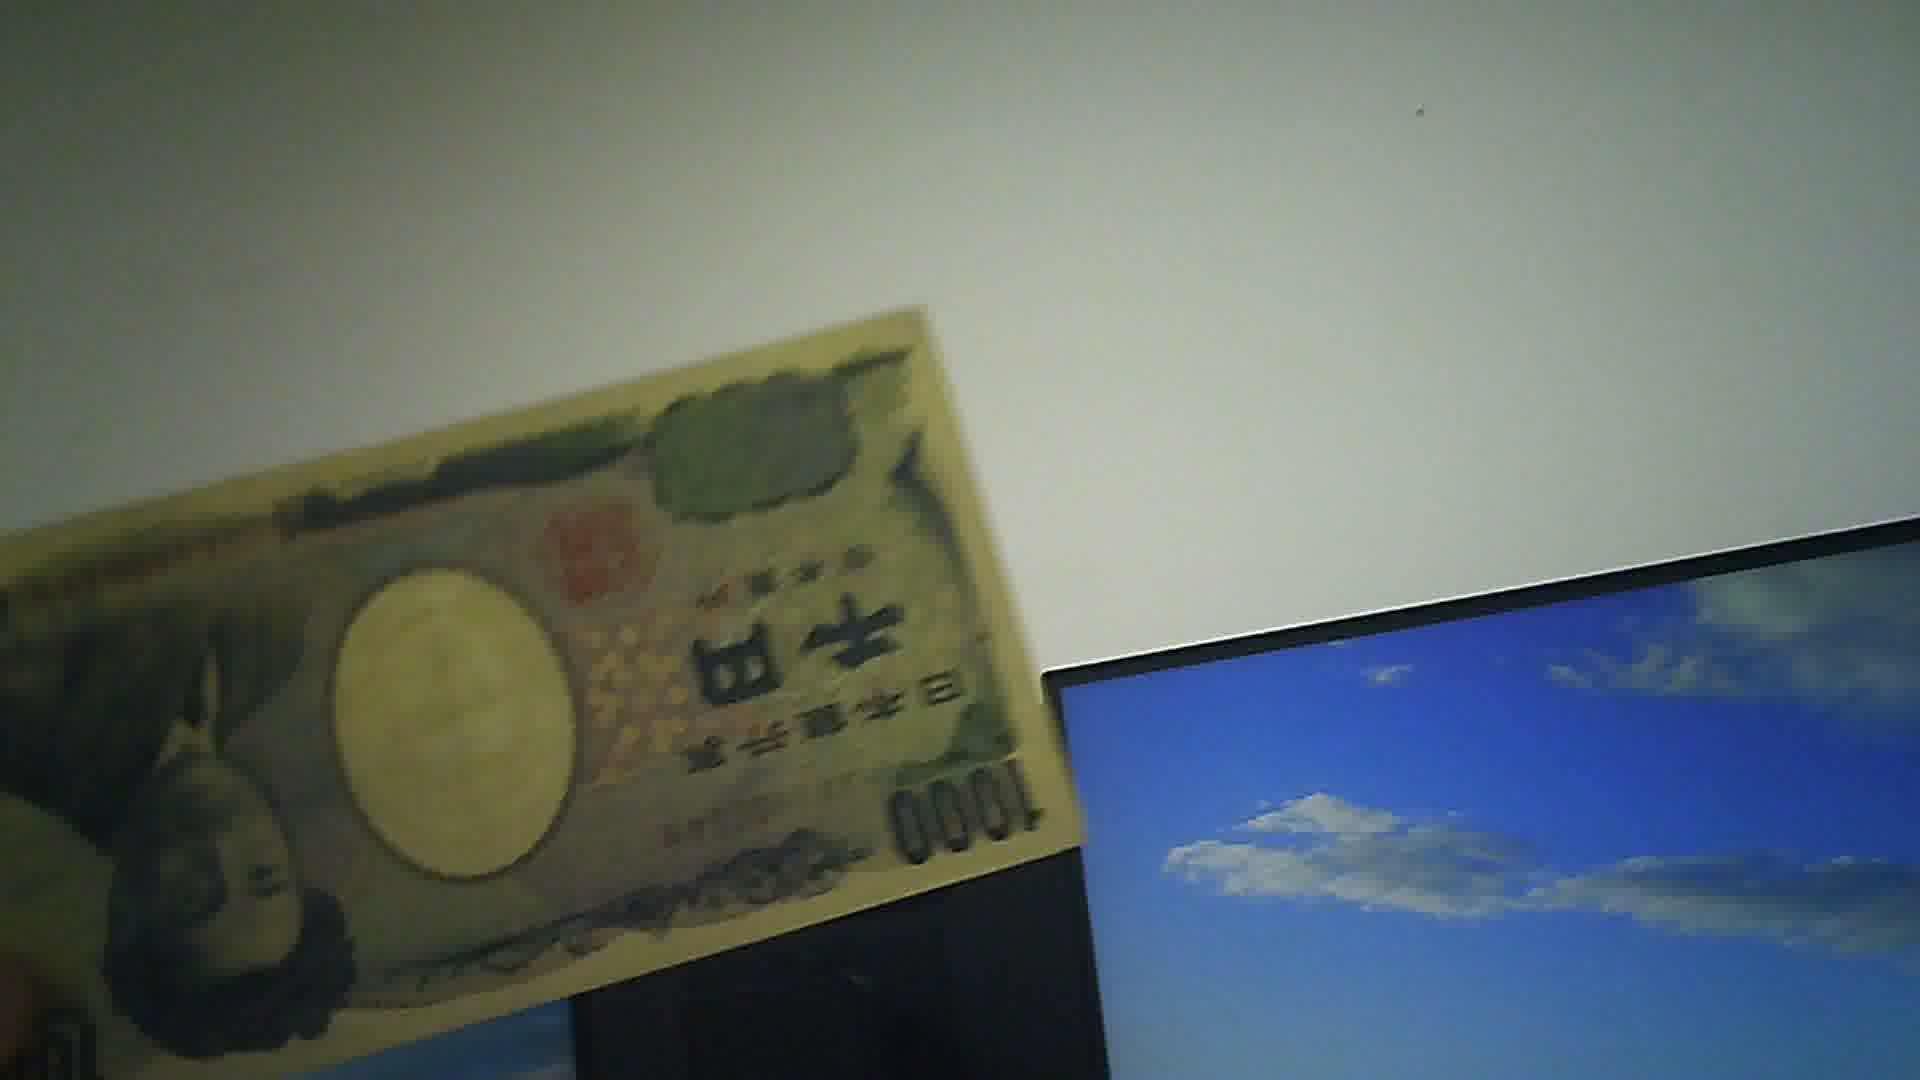1,000 Yen: (1, 291, 1077, 1079)
